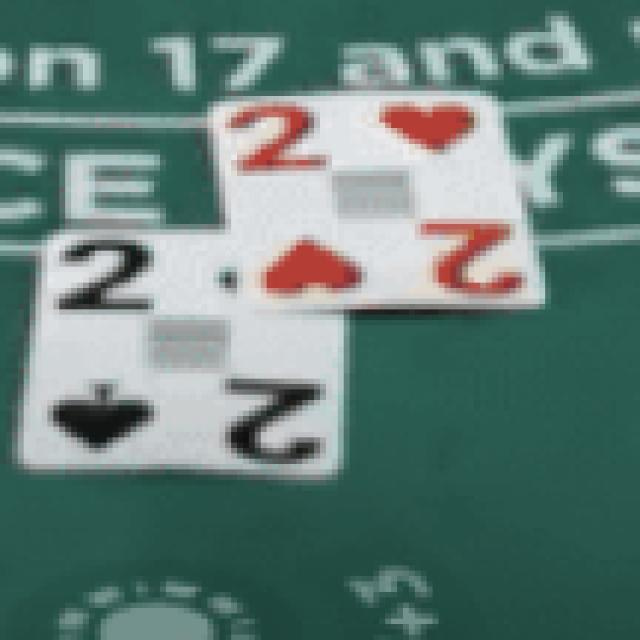Card-2: (18, 226, 347, 478), (212, 92, 544, 305)
